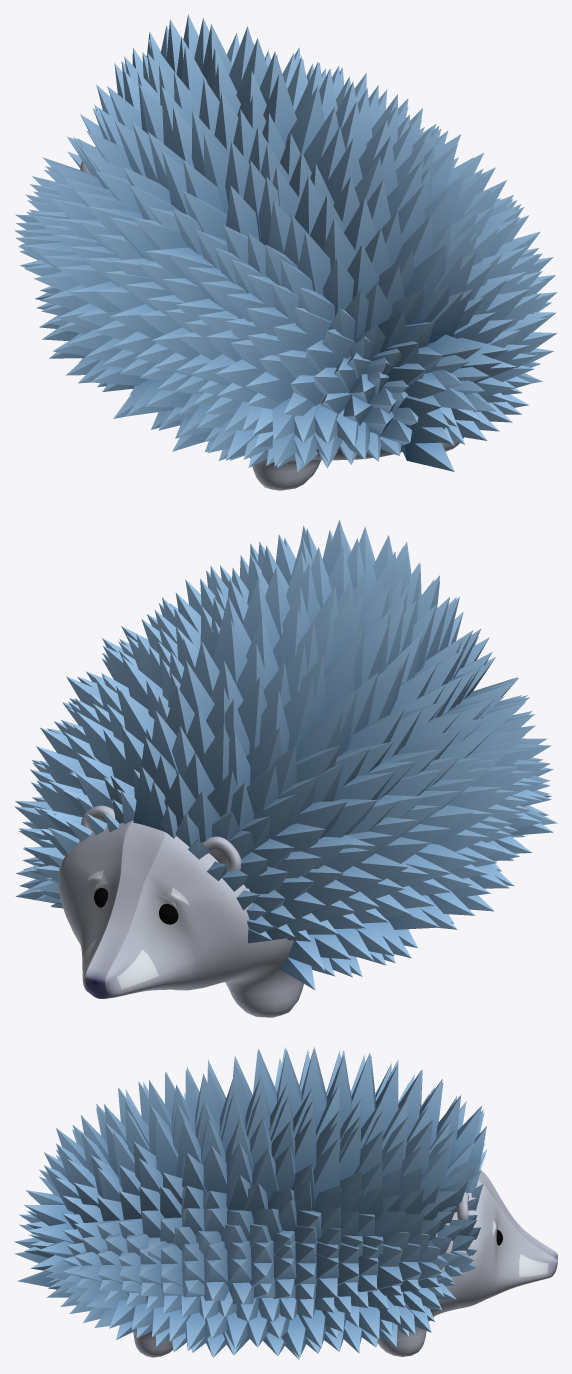
The model's file is hedgy.fbx.
3 views of the same model, one above another, from view 1: azimuth 30°, elevation 25°; view 2: azimuth 150°, elevation 25°; view 3: azimuth 270°, elevation 25° (orthographic). The views are drawn at different scales.
Parts seen in each view (by area): view 1: Cube.673, Cube.013, Cube.068, Cube.419, Cube.012, Cube.062, Cube.090, Cube.069, Cube.016, Cube.089, Cube.027, Cube.287 (+114 smaller); view 2: Cube.673, Cube.055, Cube.052, Cube.047, Cube.002, Cube.098, Cube.102, Cube.148, Cube.045, Cube.005, Cube.147, Cube.146 (+96 smaller); view 3: Cube.673, Cube.576, Cube.005, Cube.002, Cube.602, Cube.595, Cube.566, Cube.006, Cube.565, Cube.004, Cube.003, Cube.593 (+117 smaller).
Boxes of the visible parts, box(x1,y1,x2,y2) form: Cube.673: box(250, 356, 463, 490); Cube.013: box(285, 85, 324, 154); Cube.068: box(298, 232, 330, 295); Cube.419: box(404, 244, 445, 297); Cube.012: box(263, 74, 296, 144); Cube.062: box(203, 133, 228, 214); Cube.090: box(183, 191, 226, 240); Cube.069: box(323, 257, 353, 316); Cube.016: box(325, 138, 362, 202); Cube.089: box(226, 185, 259, 240); Cube.027: box(401, 442, 454, 471); Cube.287: box(344, 197, 376, 252); Cube.673: box(58, 820, 308, 1017); Cube.055: box(283, 677, 314, 755); Cube.052: box(325, 645, 354, 712); Cube.047: box(237, 677, 267, 752); Cube.002: box(242, 579, 279, 649); Cube.098: box(296, 709, 343, 761); Cube.102: box(347, 708, 404, 751); Cube.148: box(333, 772, 394, 800); Cube.045: box(204, 724, 229, 788); Cube.005: box(214, 619, 247, 685); Cube.147: box(324, 799, 377, 837); Cube.146: box(294, 801, 346, 838); Cube.673: box(128, 1169, 557, 1357); Cube.576: box(313, 1138, 339, 1199); Cube.005: box(351, 1053, 375, 1128); Cube.002: box(301, 1049, 326, 1129); Cube.602: box(156, 1118, 178, 1176); Cube.595: box(295, 1116, 316, 1172); Cube.566: box(203, 1145, 226, 1192); Cube.006: box(375, 1064, 398, 1135); Cube.565: box(252, 1148, 278, 1200); Cube.004: box(326, 1056, 352, 1129); Cube.003: box(277, 1049, 301, 1117); Cube.593: box(339, 1125, 359, 1180).
Size of the model in its own units: 2799 by 2291 by 4025.
